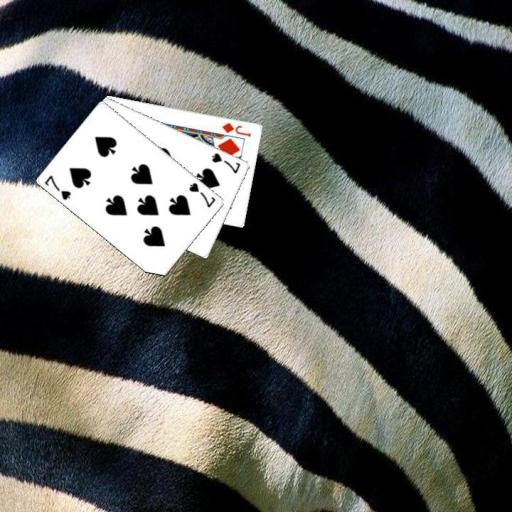7S: (186, 179, 218, 209), (41, 172, 73, 202), (209, 149, 243, 175)
JD: (219, 119, 252, 138)
